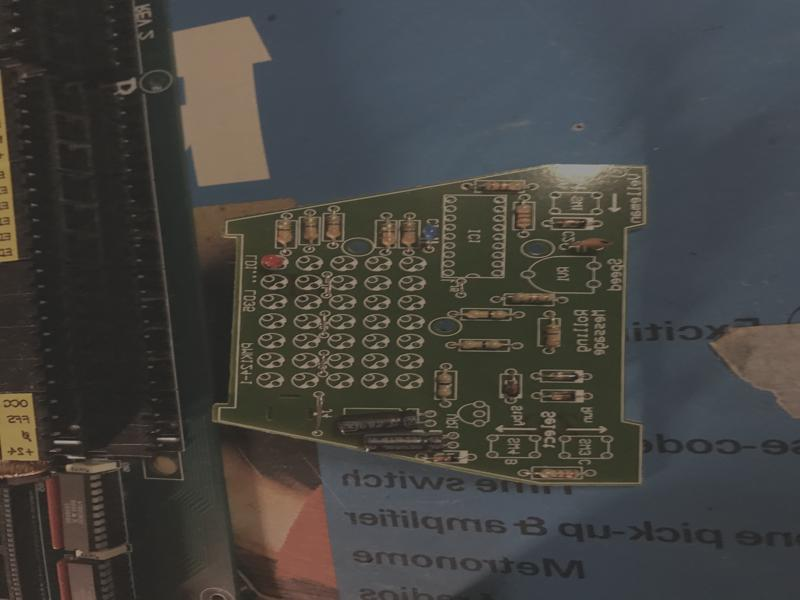Capacitor: (337, 411, 418, 435), (360, 433, 443, 453)
Diode: (541, 370, 583, 382), (542, 390, 583, 402), (501, 375, 520, 398), (429, 453, 461, 464), (556, 217, 587, 228)
LED: (261, 253, 286, 269)
Resistor: (457, 338, 512, 354), (507, 291, 554, 306), (533, 467, 581, 480), (540, 319, 561, 348), (462, 309, 511, 321), (513, 202, 534, 230), (435, 371, 454, 399), (276, 219, 294, 248), (478, 181, 528, 191), (325, 214, 342, 241), (379, 221, 396, 248), (302, 217, 318, 242), (402, 221, 417, 247)
